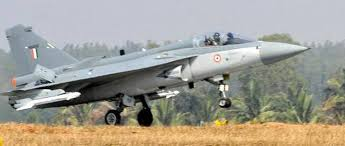fighter: (1, 19, 312, 127)
